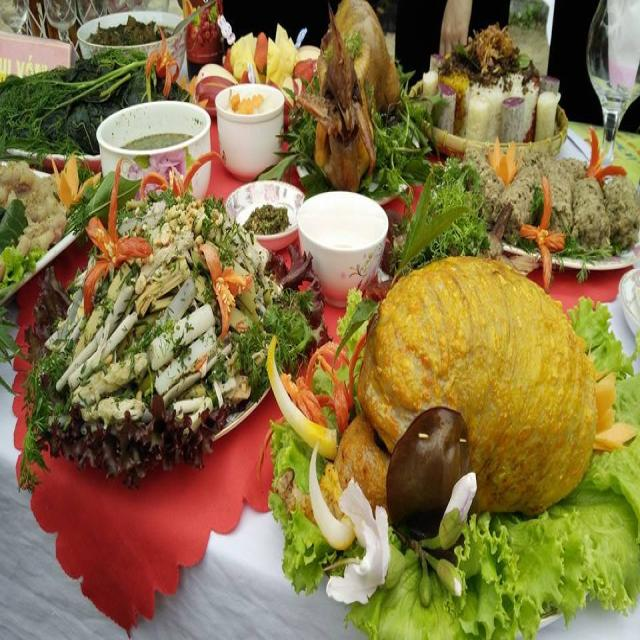ga bo xoi: (330, 265, 618, 547)
ga luoc: (309, 0, 410, 192)
